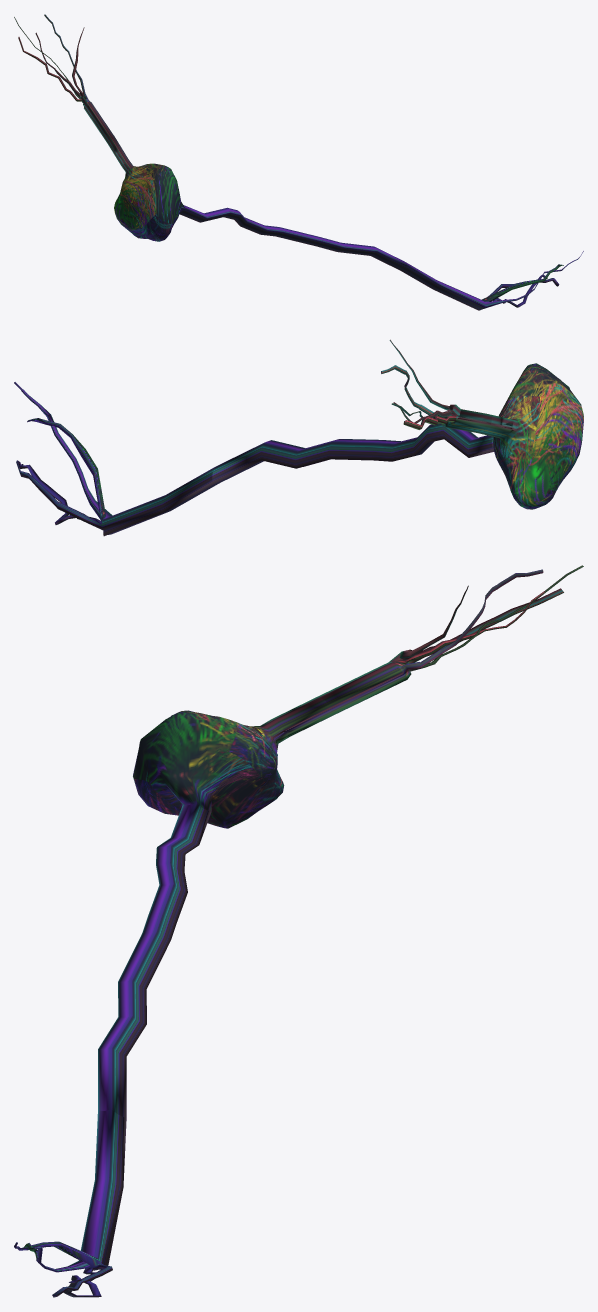
The model's file is lastneuron3.fbx.
3 views of the same model, one above another, from view 1: azimuth 30°, elevation 25°; view 2: azimuth 150°, elevation 25°; view 3: azimuth 270°, elevation 25° (orthographic). The views are drawn at different scales.
Visible parts, largest first — view 1: done 4 ex; view 2: done 4 ex; view 3: done 4 ex.
Boxes of the visible parts, x1=… form: done 4 ex: x1=14, y1=14, x2=583, y2=310; done 4 ex: x1=14, y1=339, x2=583, y2=536; done 4 ex: x1=14, y1=565, x2=583, y2=1297.
Bounding box in the file's own units: 64926 × 41694 × 47159.
